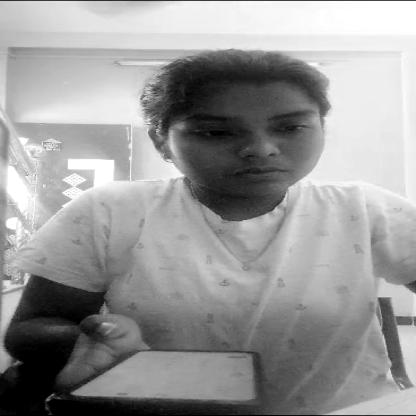Normal: (162, 99, 330, 194)
